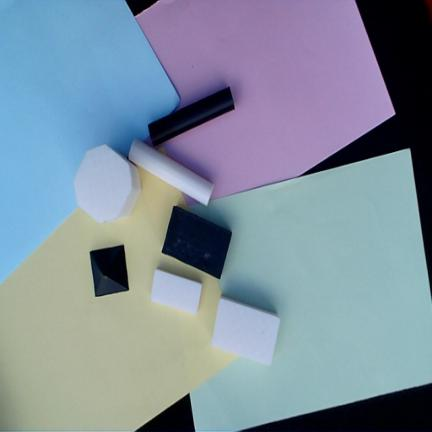Cilindro: (128, 139, 215, 207), (148, 86, 235, 146)
Paralelepipedo: (161, 205, 232, 280), (211, 295, 281, 366), (150, 269, 203, 315), (89, 244, 129, 297)
Prisma_hexagonal: (73, 143, 142, 224)
